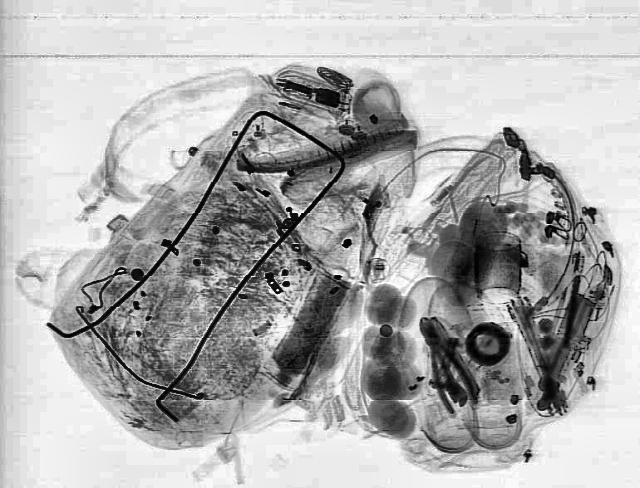Pliers: (400, 314, 488, 415)
